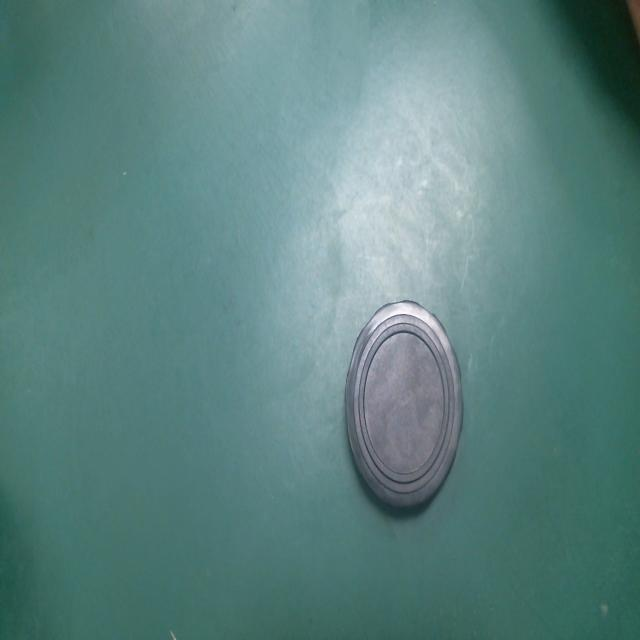cover: (338, 286, 478, 529)
